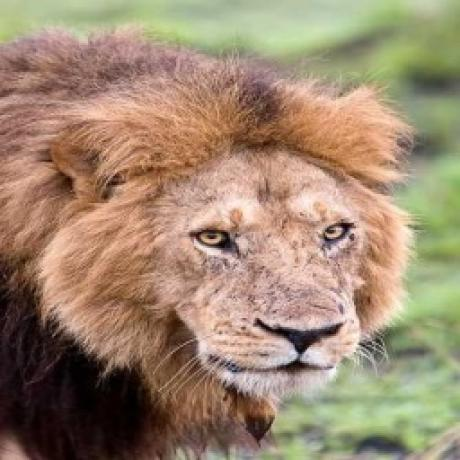Lion: (0, 25, 420, 460)
